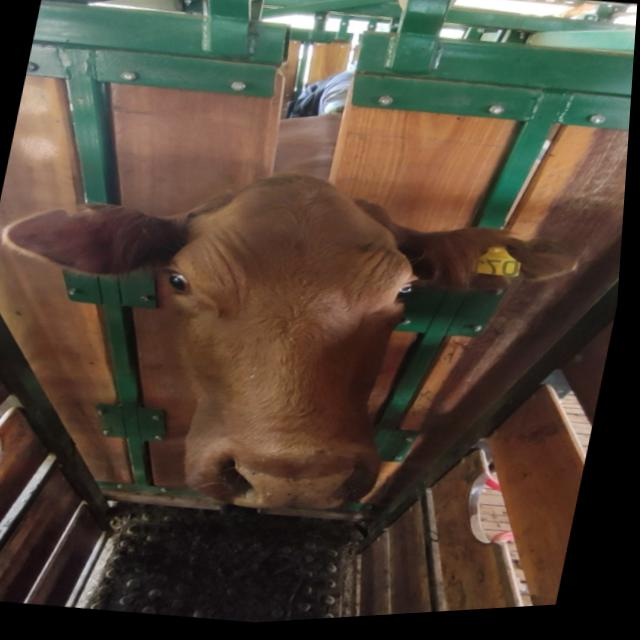cowFace: (124, 157, 439, 532)
